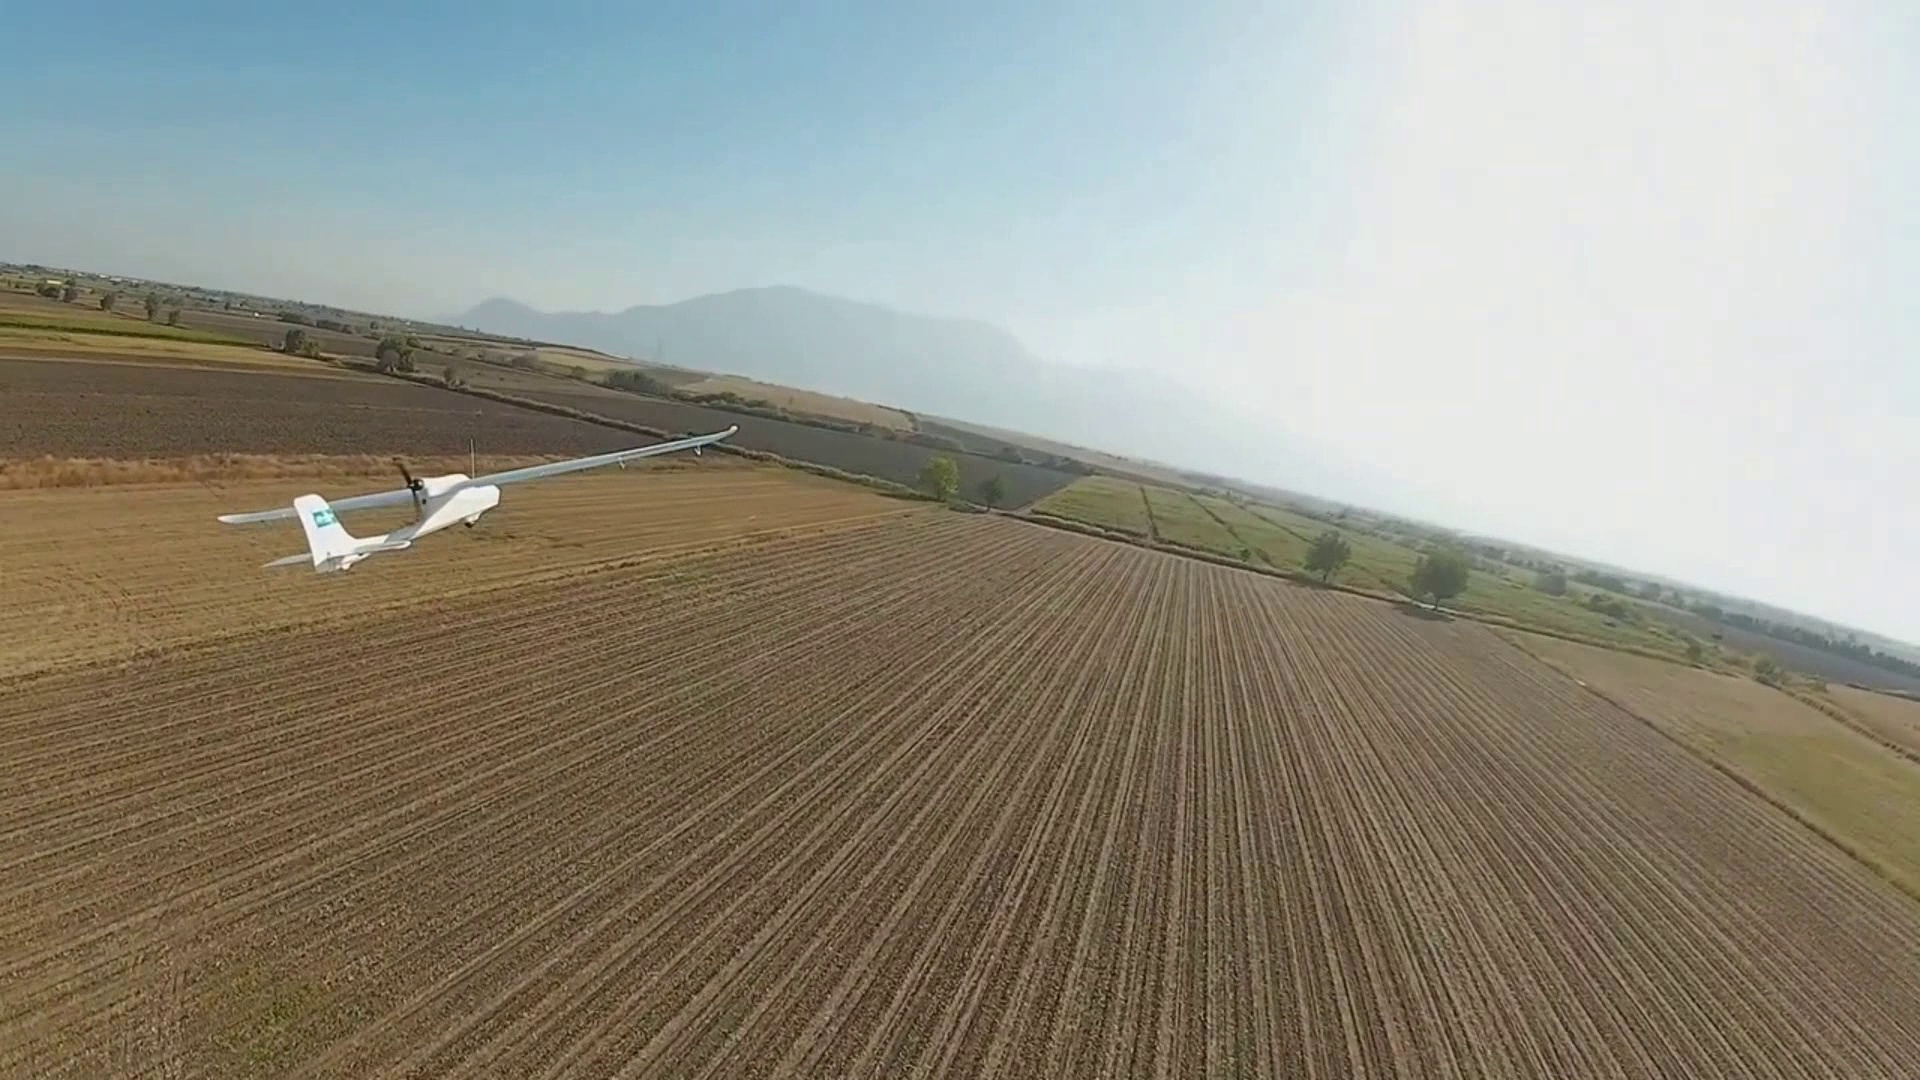airplane: (334, 351, 1915, 754), (216, 425, 732, 572), (218, 452, 498, 574)
